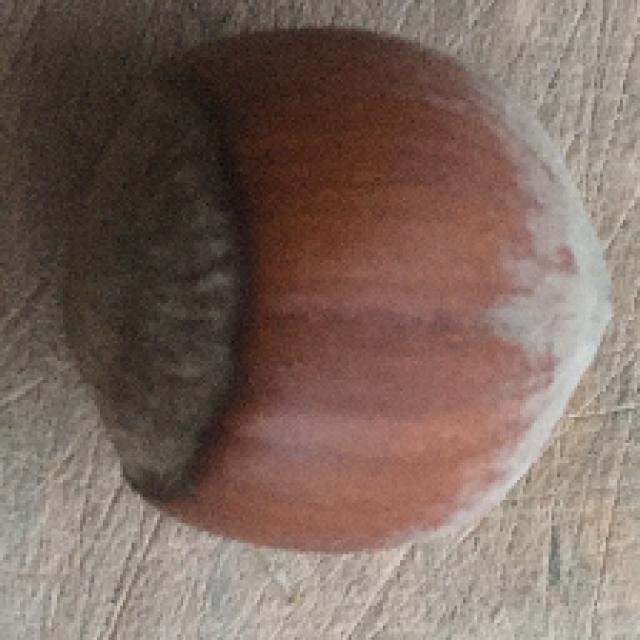qualityHazelnut: (70, 24, 611, 555)
